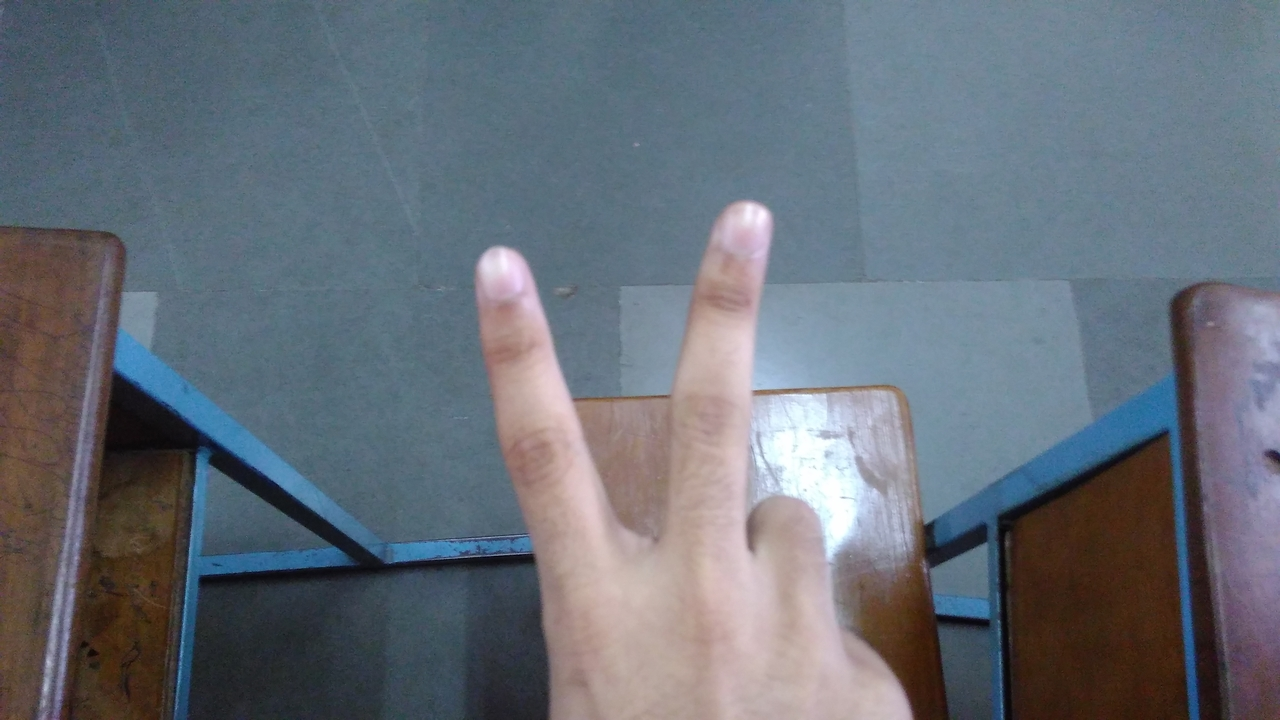fingertip: (706, 194, 778, 260), (470, 244, 536, 314)
